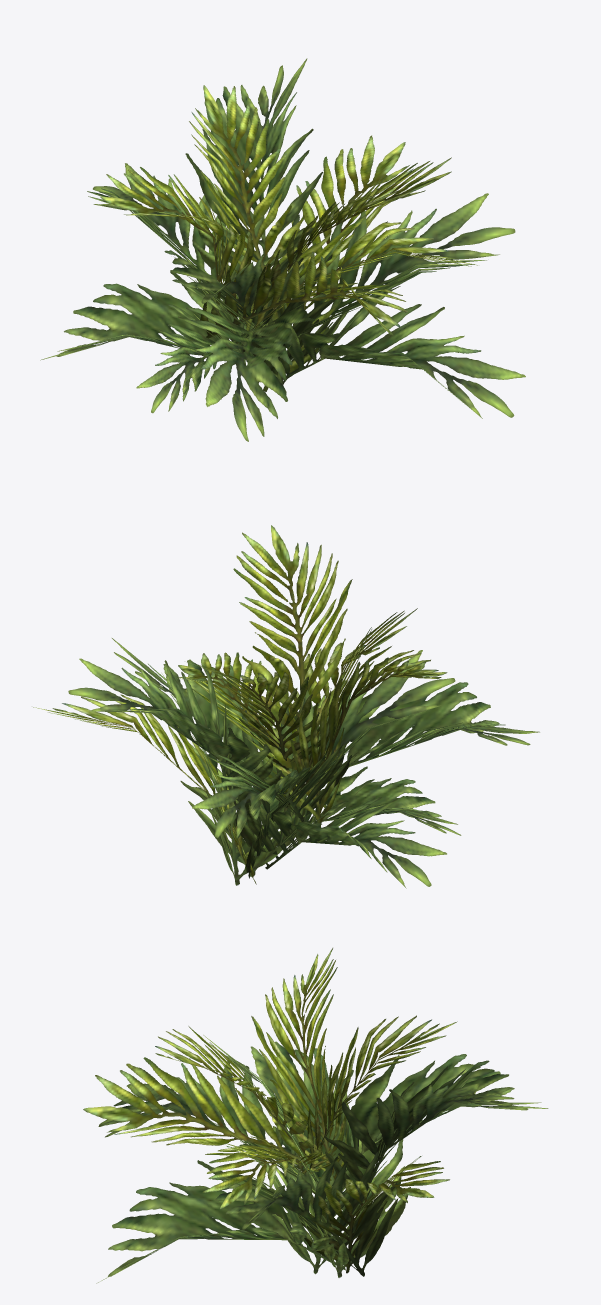
Rendered from S_Plant_Green008.FBX.
3 views of the same model, one above another, from view 1: azimuth 30°, elevation 25°; view 2: azimuth 150°, elevation 25°; view 3: azimuth 270°, elevation 25° (orthographic). The views are drawn at different scales.
Visible parts, largest first — view 1: S_Plant_Green008; view 2: S_Plant_Green008; view 3: S_Plant_Green008.
Boxes of the visible parts, x1,y1,x2,y2 form: S_Plant_Green008: (40,58,525,441); S_Plant_Green008: (33,525,539,888); S_Plant_Green008: (83,948,548,1283).
Bounding box in the file's own units: 337 × 374 × 209.
